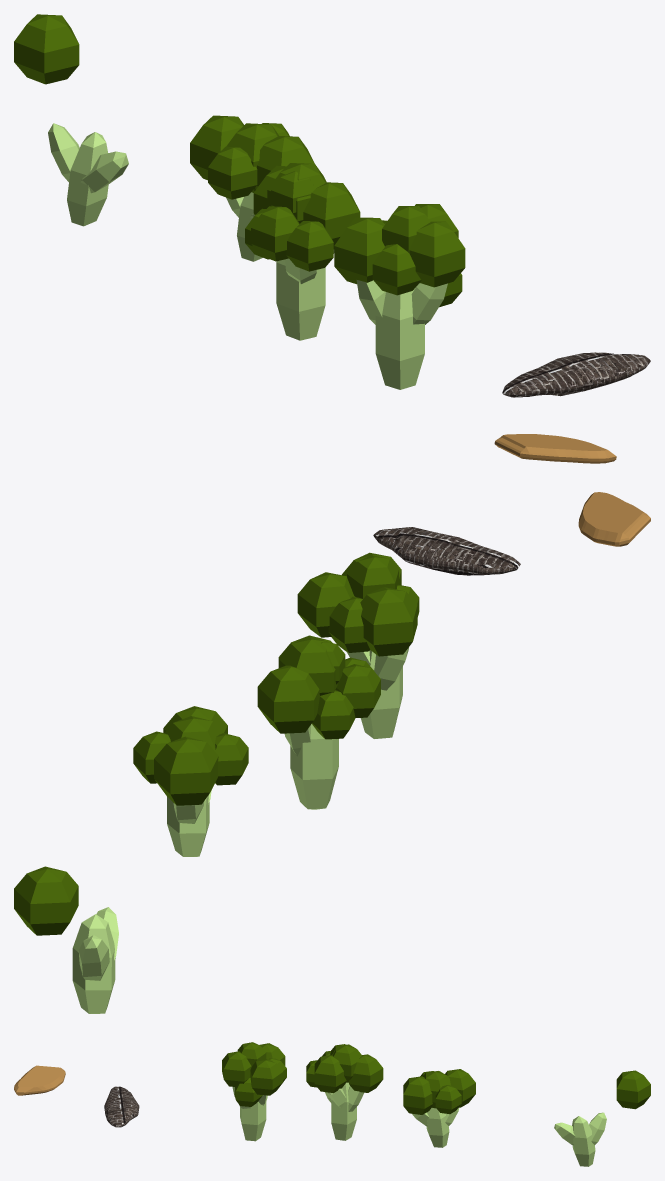
The model's file is BroccoliPack.fbx.
The picture shows the model from 3 angles, top to bottom: view 1: azimuth 30°, elevation 25°; view 2: azimuth 150°, elevation 25°; view 3: azimuth 270°, elevation 25°; orthographic projection. The views are drawn at different scales.
Visible parts, largest first — view 1: Broccoli1, Broccoli2, BabyBroccoli, BurntTortilla, Sphere.008, Plane, Sphere.009, Sphere.011, Sphere.012; view 2: Broccoli2, Broccoli1, BabyBroccoli, BurntTortilla, Sphere.008, Plane, Sphere.009, Sphere.012; view 3: Broccoli2, Broccoli1, BabyBroccoli, Plane, Sphere.008, BurntTortilla, Sphere.009, Sphere.012, Sphere.011.
Part boxes in pixels (bbox=[...]): Broccoli1: bbox=[334, 204, 465, 389]; Broccoli2: bbox=[245, 163, 360, 340]; BabyBroccoli: bbox=[190, 115, 314, 261]; BurntTortilla: bbox=[502, 352, 650, 397]; Sphere.008: bbox=[14, 14, 79, 84]; Plane: bbox=[494, 434, 616, 463]; Sphere.009: bbox=[67, 132, 108, 226]; Sphere.011: bbox=[80, 151, 128, 193]; Sphere.012: bbox=[48, 123, 79, 181]; Broccoli2: bbox=[257, 635, 380, 809]; Broccoli1: bbox=[297, 552, 419, 738]; BabyBroccoli: bbox=[133, 706, 248, 856]; BurntTortilla: bbox=[373, 527, 520, 575]; Sphere.008: bbox=[14, 866, 78, 935]; Plane: bbox=[578, 492, 650, 546]; Sphere.009: bbox=[72, 914, 115, 1013]; Sphere.012: bbox=[78, 935, 109, 980]; Broccoli2: bbox=[306, 1044, 383, 1140]; Broccoli1: bbox=[222, 1042, 286, 1141]; BabyBroccoli: bbox=[403, 1069, 475, 1147]; Plane: bbox=[14, 1065, 65, 1095]; Sphere.008: bbox=[616, 1070, 650, 1109]; BurntTortilla: bbox=[104, 1086, 139, 1127]; Sphere.009: bbox=[572, 1116, 595, 1166]; Sphere.012: bbox=[589, 1112, 606, 1144]; Sphere.011: bbox=[554, 1122, 575, 1145].
Bounding box in the file's own units: 869 × 947 × 4235.
